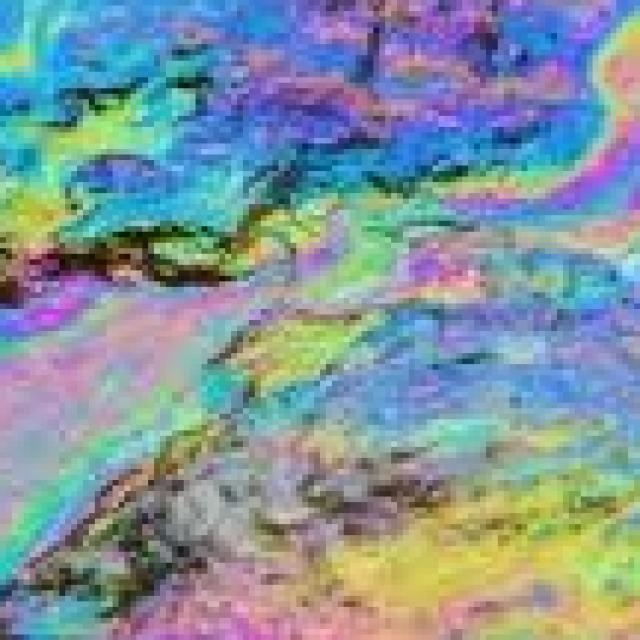-: (0, 0, 640, 640), (0, 0, 640, 552), (266, 33, 640, 640)
